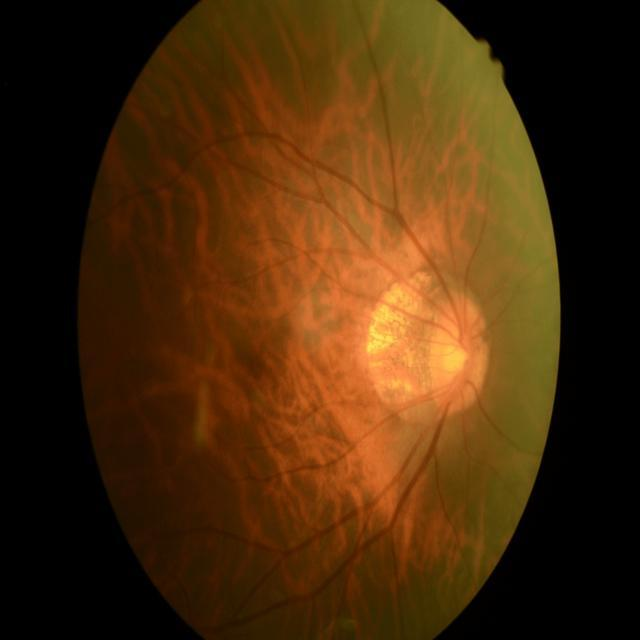cup: (436, 335, 469, 397)
disk: (432, 291, 489, 417)
